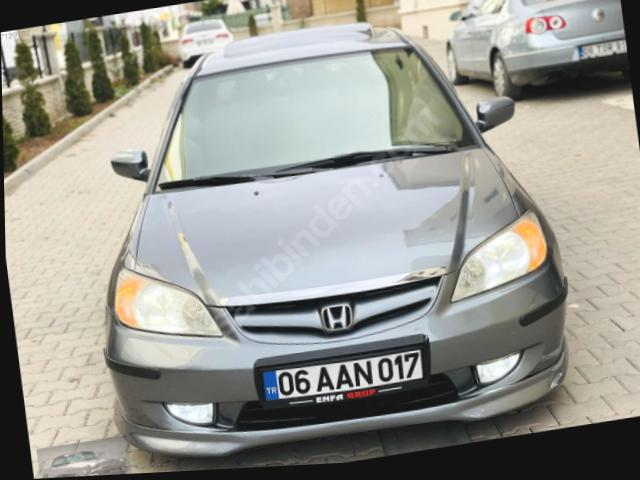plaka: (260, 348, 426, 403)
